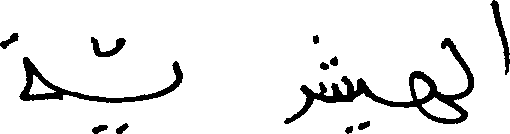ا: (488, 0, 508, 75)
ة: (0, 31, 62, 102)
ر: (283, 34, 314, 124)
ش: (313, 32, 352, 132)
ل: (440, 32, 477, 98)
ه: (406, 68, 470, 124)
ي: (89, 58, 182, 132), (345, 76, 371, 133)
